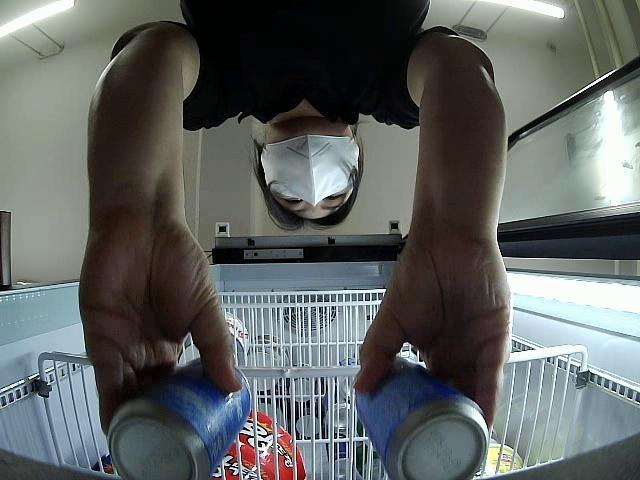15_letsbe: (106, 357, 252, 480), (354, 357, 490, 480)
